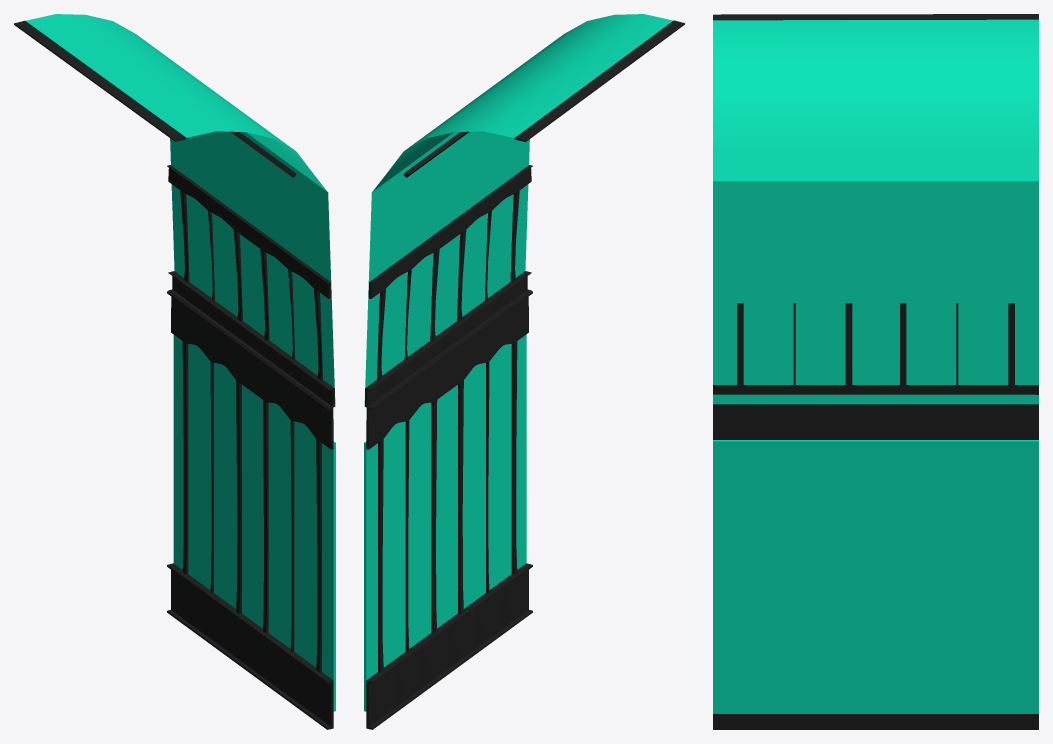
Rendered from Gardenwall.fbx.
3 views of the same model, side by side, from view 1: azimuth 30°, elevation 25°; view 2: azimuth 150°, elevation 25°; view 3: azimuth 270°, elevation 25° (orthographic).
Parts seen in each view (by area): view 1: Gardenwall; view 2: Gardenwall; view 3: Gardenwall.
Boxes of the visible parts, x1,y1,x2,y2 form: Gardenwall: [14, 14, 335, 729]; Gardenwall: [364, 14, 684, 729]; Gardenwall: [713, 14, 1038, 729].
Size of the model in its own units: 88.64 by 328 by 152.
